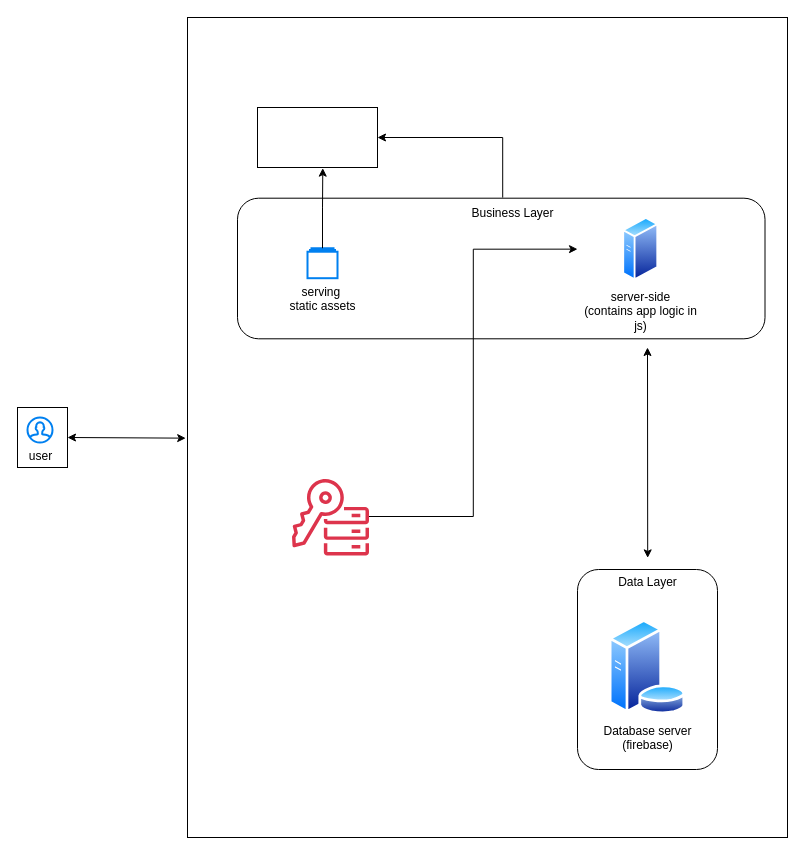
Some shapes in this 805 by 855 pixel diagram are drawn without their labels. The centre of each missing label's shape, as x and y in pixels:
"client side" goes at pixel 317 137.
"external systems (ningasAPI, ...etc)" goes at pixel 330 516.
